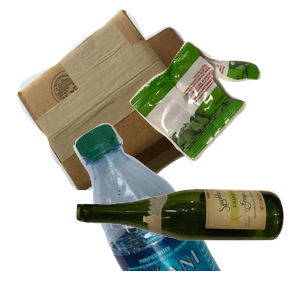cardboard: (14, 10, 222, 190)
glass: (74, 186, 300, 300)
plastic: (71, 120, 300, 300)
trash: (127, 39, 300, 193)
